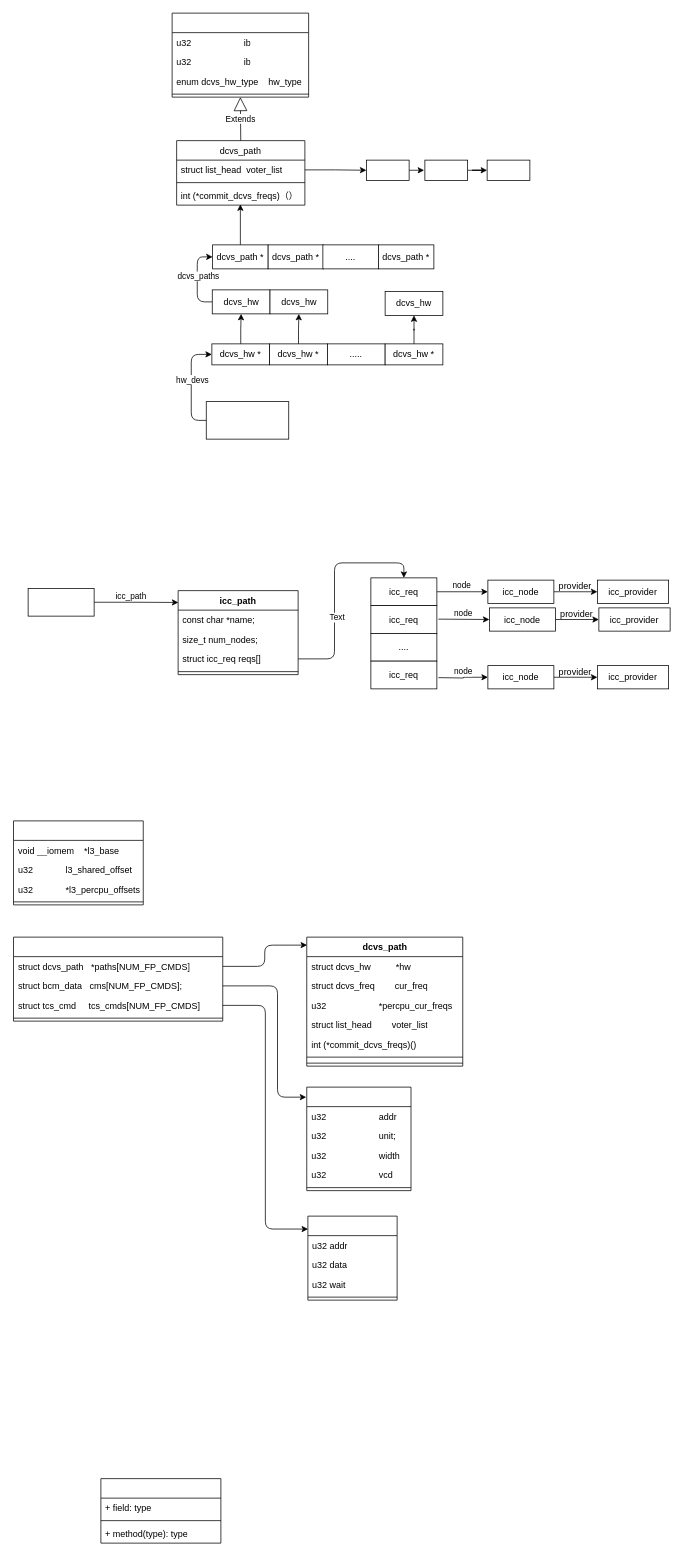
The diagram is 683 pixels wide and 1559 high, and some of its shapes have lost their labels. Here are the shapes that lost their labels. From the top down, the box of each, then its label:
(171, 12, 309, 97): dcvs_freq
(206, 401, 289, 439): qcom_dcvs_data
(27, 588, 94, 616): icc_sp_data
(13, 820, 143, 905): epss_dev_data
(13, 936, 223, 1021): ddrllcc_fp_data
(306, 1086, 411, 1191): bcm_data
(307, 1215, 397, 1300): tcs_cmd
(100, 1478, 221, 1543): bw_hwmon
